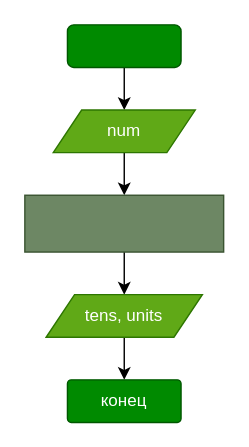
Some shapes in this 249 by 447 pixel diagram are drawn without their labels. The centre of each missing label's shape, as x and y in pixels:
units = num % 10 tens = (num / 10) % 10: [123,223]
начало: [123,45]
